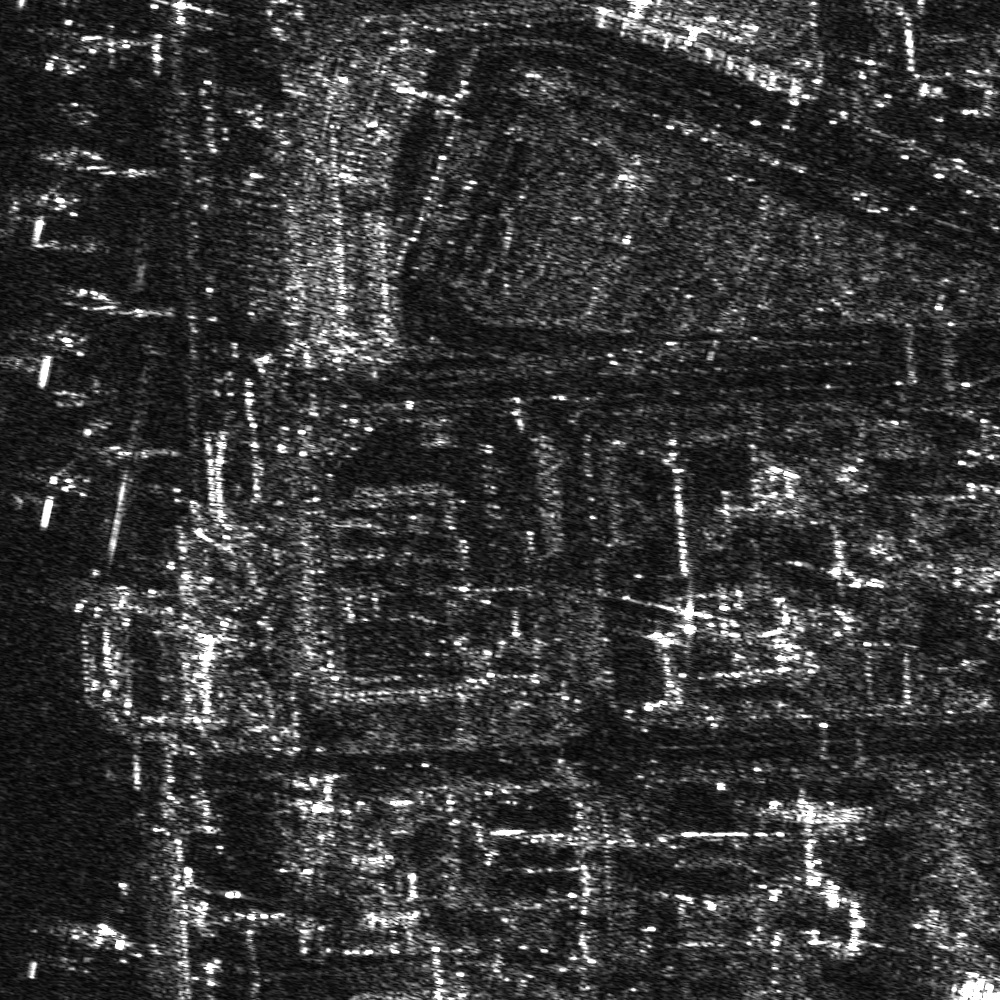A220: (17, 912, 156, 982)
